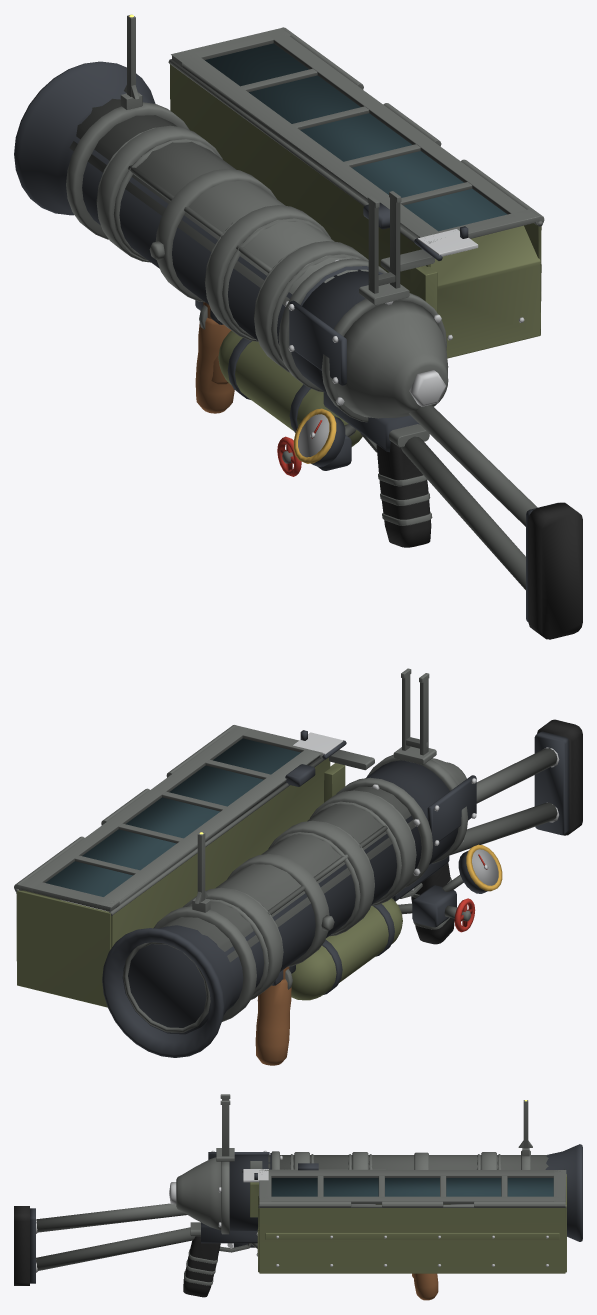
The model's file is vm_molino.glb.
3 views of the same model, one above another, from view 1: azimuth 30°, elevation 25°; view 2: azimuth 150°, elevation 25°; view 3: azimuth 270°, elevation 25° (orthographic). The views are drawn at different scales.
Parts seen in each view (by area): view 1: body_steel_park, body_steel_blued, hopper, lid_frame, lid_glass, tube_body, body_rubber, body_paint_olive, body_wood, body_steel_bare, sight_posts, hopper_trim (+3 smaller); view 2: body_steel_blued, body_steel_park, hopper, lid_frame, lid_glass, tube_body, tube_bands, body_paint_olive, body_rubber, body_wood, sight_posts, body_steel_bare (+4 smaller); view 3: hopper, body_steel_park, lid_frame, body_steel_blued, lid_glass, tube_body, body_rubber, body_wood, sight_posts, sight_blade, gate_plate, body_steel_bare.
Boxes of the visible parts, x1,y1,x2,y2 form: body_steel_park: (66, 102, 537, 589); body_steel_blued: (14, 61, 558, 621); hopper: (170, 64, 541, 358); lid_frame: (171, 27, 544, 243); lid_glass: (205, 43, 507, 231); tube_body: (69, 98, 368, 305); body_rubber: (376, 441, 582, 639); body_paint_olive: (218, 330, 362, 446); body_wood: (195, 318, 234, 413); body_steel_bare: (284, 259, 445, 457); sight_posts: (367, 191, 401, 293); hopper_trim: (168, 59, 542, 242); body_steel_blued: (102, 731, 569, 1057); body_steel_park: (153, 746, 557, 1021); hopper: (16, 757, 345, 1007); lid_frame: (14, 725, 322, 911); lid_glass: (45, 738, 300, 896); tube_body: (123, 786, 415, 1032); tube_bands: (122, 787, 401, 1034); body_paint_olive: (291, 898, 402, 1000); body_rubber: (411, 719, 582, 944); body_wood: (255, 979, 291, 1065); sight_posts: (401, 668, 429, 755); body_steel_bare: (371, 747, 559, 890); hopper: (250, 1174, 566, 1273); body_steel_park: (36, 1148, 530, 1285); lid_frame: (259, 1169, 566, 1207); body_steel_blued: (30, 1144, 582, 1283); lid_glass: (271, 1178, 553, 1196); tube_body: (268, 1155, 548, 1169); body_rubber: (14, 1206, 220, 1297); body_wood: (414, 1273, 438, 1300); sight_posts: (220, 1094, 230, 1156); sight_blade: (518, 1100, 532, 1156); gate_plate: (243, 1169, 268, 1182); body_steel_bare: (36, 1150, 282, 1272).
Size of the model in its own units: 0.3166 by 0.3625 by 0.928.
